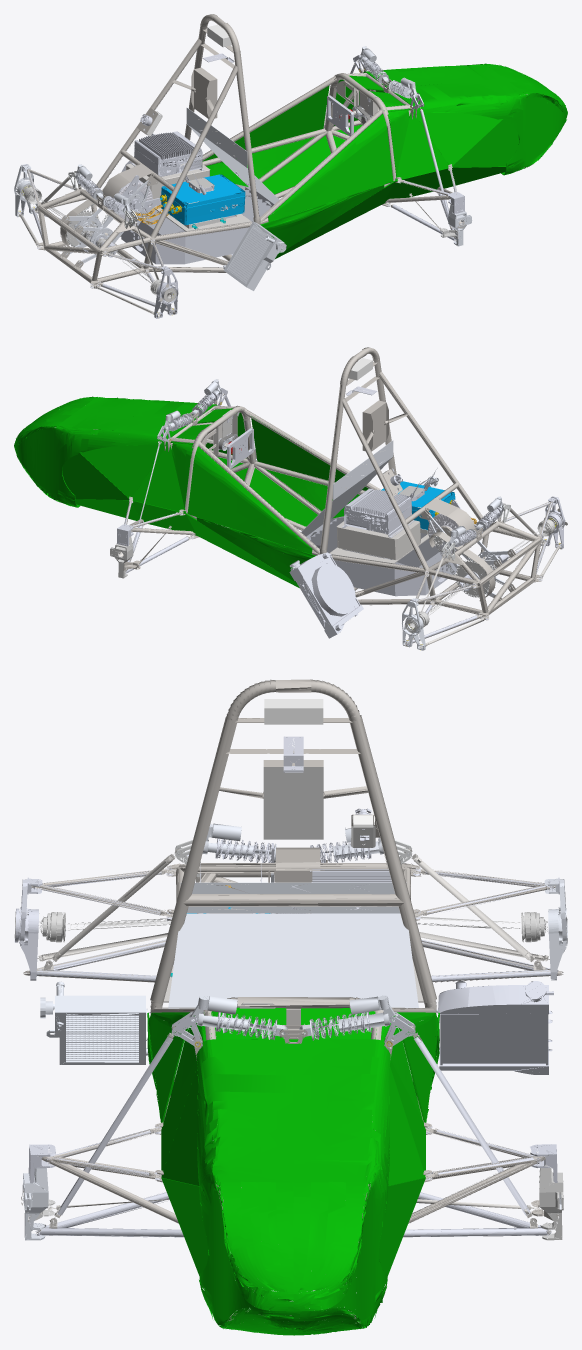
Rendered from sisu-20d.dae.
3 views of the same model, one above another, from view 1: azimuth 30°, elevation 25°; view 2: azimuth 150°, elevation 25°; view 3: azimuth 270°, elevation 25° (orthographic). The views are drawn at different scales.
Visible parts, largest first — view 1: _SISU_20D_-_A001_-_Top_Level_Assembly_Root___pin-1_step-1_2_; view 2: _SISU_20D_-_A001_-_Top_Level_Assembly_Root___pin-1_step-1_2_; view 3: _SISU_20D_-_A001_-_Top_Level_Assembly_Root___pin-1_step-1_2_.
Boxes of the visible parts, x1,y1,x2,y2 form: _SISU_20D_-_A001_-_Top_Level_Assembly_Root___pin-1_step-1_2_: [14, 14, 567, 318]; _SISU_20D_-_A001_-_Top_Level_Assembly_Root___pin-1_step-1_2_: [14, 347, 567, 650]; _SISU_20D_-_A001_-_Top_Level_Assembly_Root___pin-1_step-1_2_: [14, 679, 567, 1335].
Bounding box in the file's own units: 2.73 × 1.38 × 1.21.
